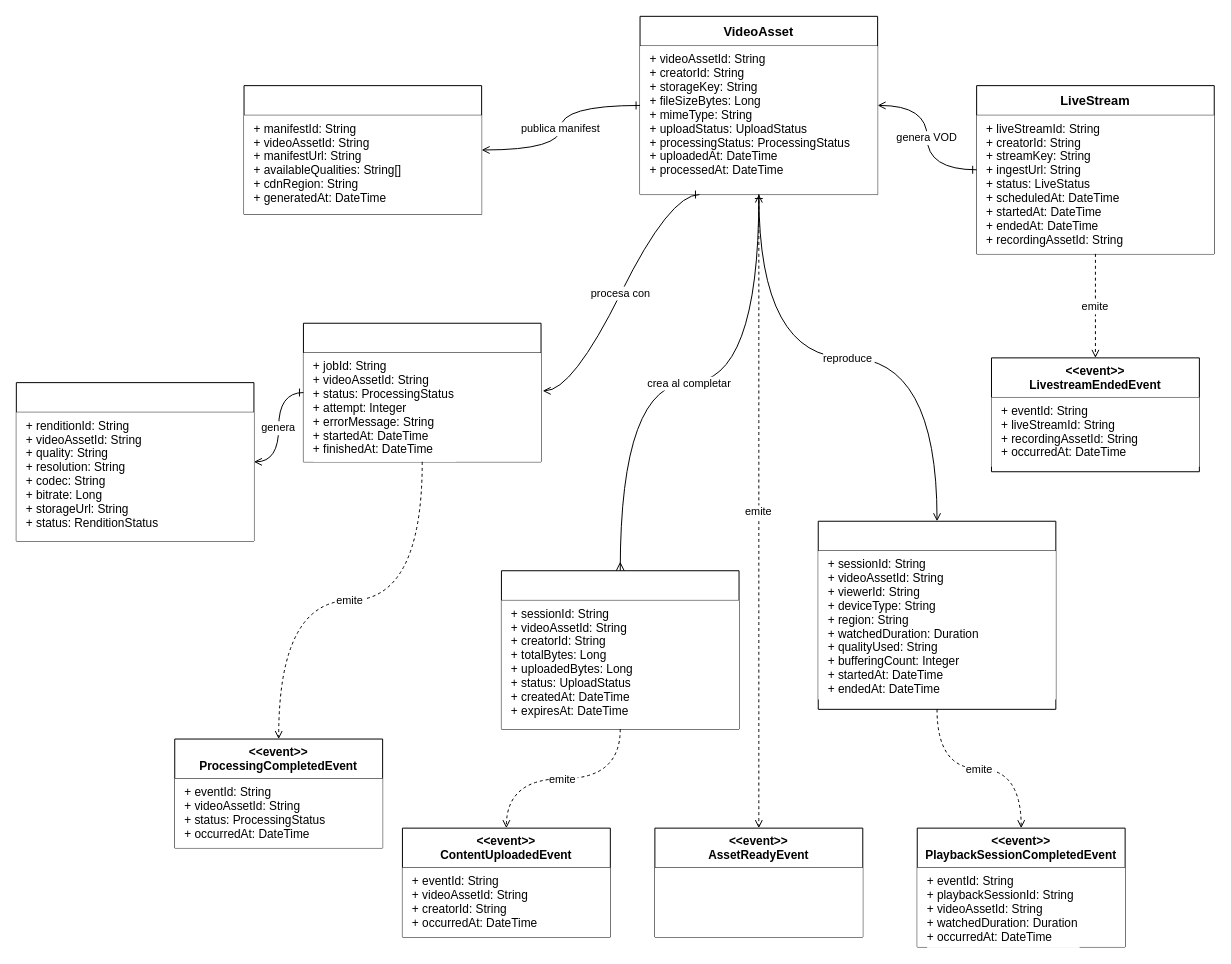
Some shapes in this 1231 by 964 pixel diagram are drawn without their labels. The box of each missing label's shape, as (x1, y1, x2, y2) in pixels:
+ eventId: String + videoAssetId: String + creatorId: String + readyAt: DateTime: (654, 867, 862, 937)
PlaybackSession: (817, 520, 1056, 709)
ProcessingJob: (302, 322, 541, 462)
StreamingManifest: (243, 85, 482, 214)
UploadSession: (500, 570, 739, 729)
VideoRendition: (15, 382, 254, 541)
